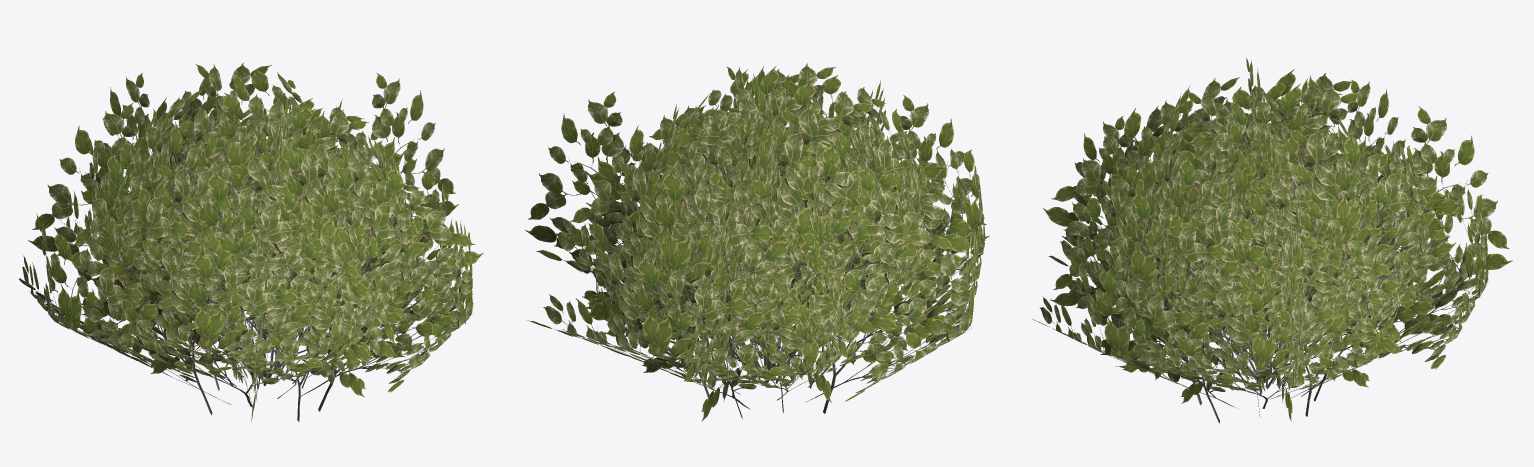
File: MB_Bush_01.fbx
3 renders of one model, left to right at view 1: azimuth 30°, elevation 25°; view 2: azimuth 150°, elevation 25°; view 3: azimuth 270°, elevation 25°, orthographic. The views are drawn at different scales.
Parts seen in each view (by area): view 1: MB_Bush_01_LOD0; view 2: MB_Bush_01_LOD0; view 3: MB_Bush_01_LOD0.
Part boxes in pixels (bbox=[...]): MB_Bush_01_LOD0: bbox=[19, 62, 483, 422]; MB_Bush_01_LOD0: bbox=[525, 63, 989, 421]; MB_Bush_01_LOD0: bbox=[1032, 58, 1512, 423].
Size of what is drawn, in the model's own units: 198 by 165 by 201.
